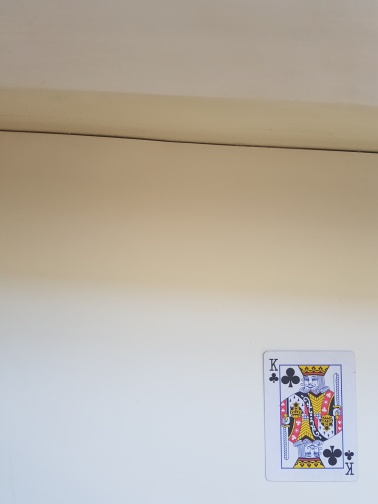king: (262, 350, 360, 484)
